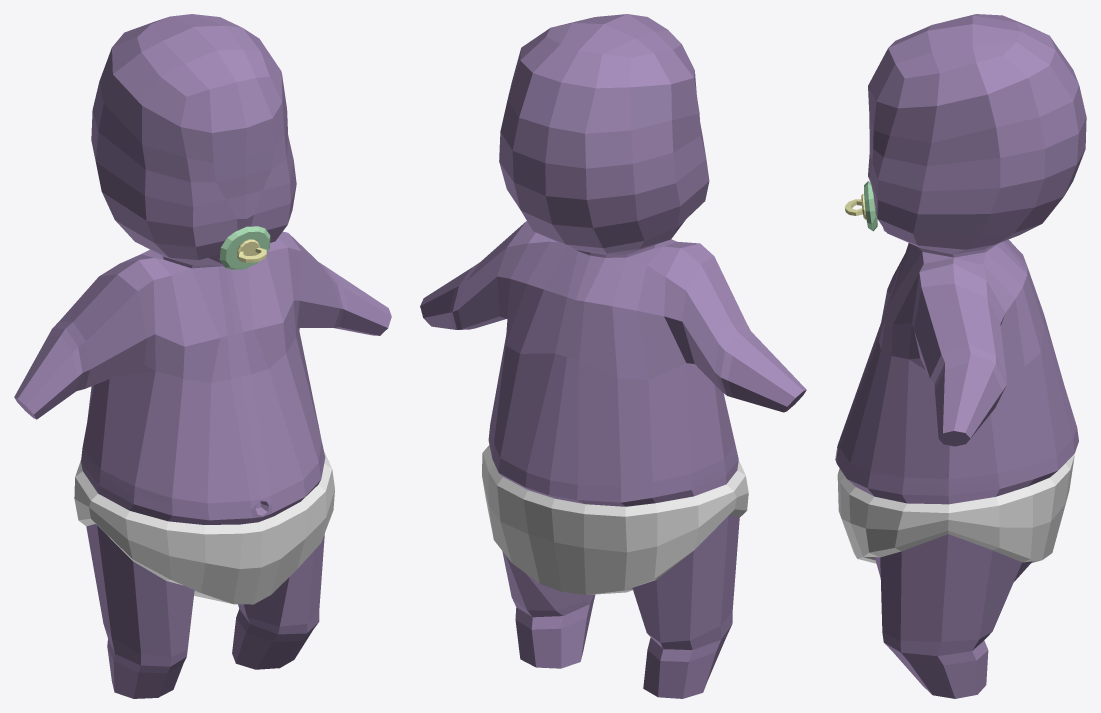
Rendered from baby_mdl_v001.fbx.
3 views of the same model, side by side, from view 1: azimuth 30°, elevation 25°; view 2: azimuth 150°, elevation 25°; view 3: azimuth 270°, elevation 25° (orthographic). The views are drawn at different scales.
Visible parts, largest first — view 1: baby, binky; view 2: baby; view 3: baby, binky.
Boxes of the visible parts, box(x1,y1,x2,y2) form: baby: box(14, 14, 391, 698); binky: box(219, 226, 270, 269); baby: box(420, 14, 806, 698); baby: box(835, 14, 1086, 698); binky: box(845, 181, 877, 231).
Bounding box in the file's own units: 12.17 × 19.99 × 7.2.
